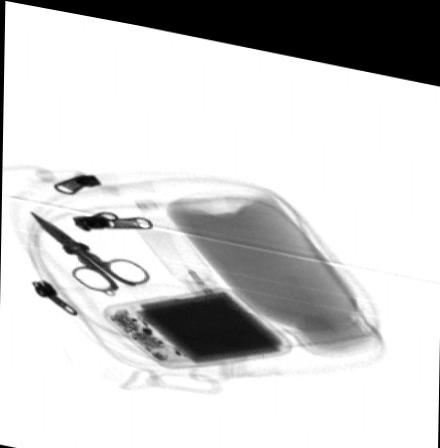Powerbank: (103, 274, 291, 362)
Scissors: (27, 204, 150, 288)
